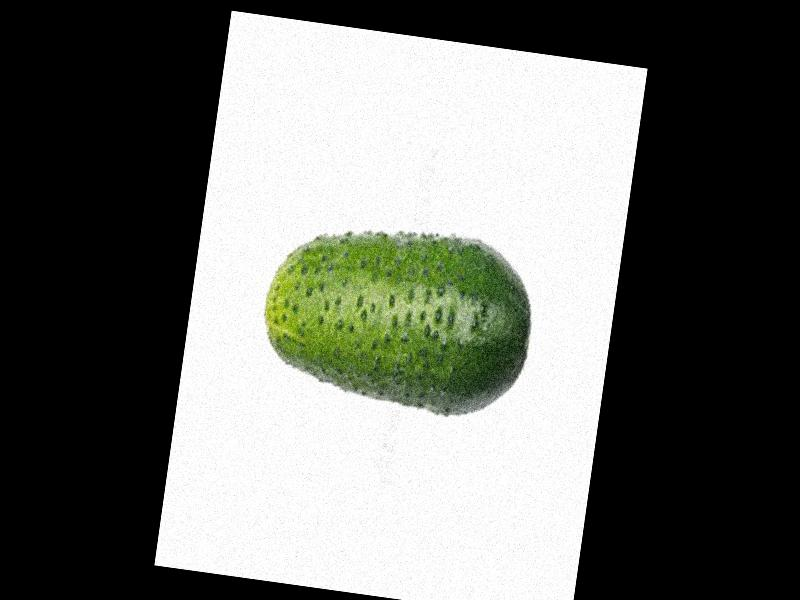Cucumber: (252, 208, 543, 426)
